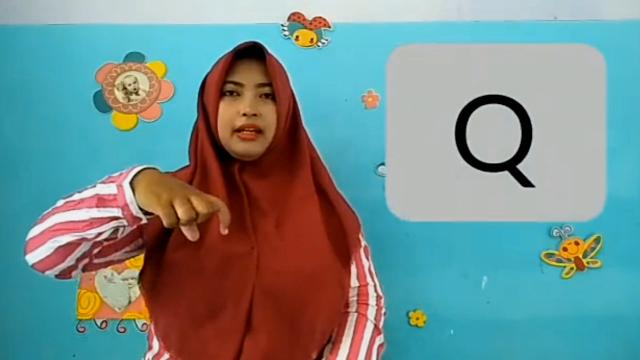Q: (134, 168, 232, 243)
